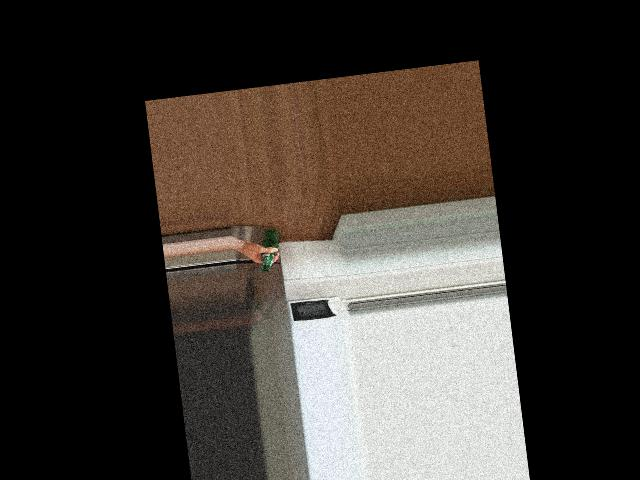beer: (256, 227, 283, 272)
